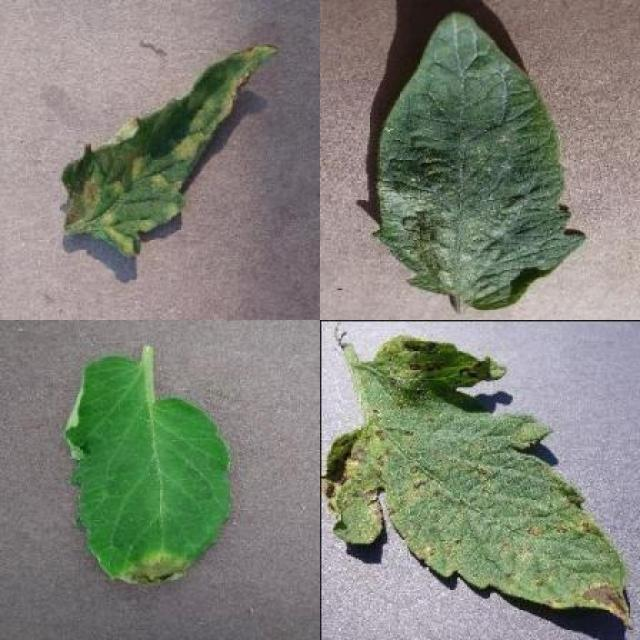Late Blight: (64, 355, 234, 588)
Leaf Mold: (62, 42, 278, 258)
Septoria: (320, 336, 633, 628)
Spider Mites: (375, 11, 585, 312)
